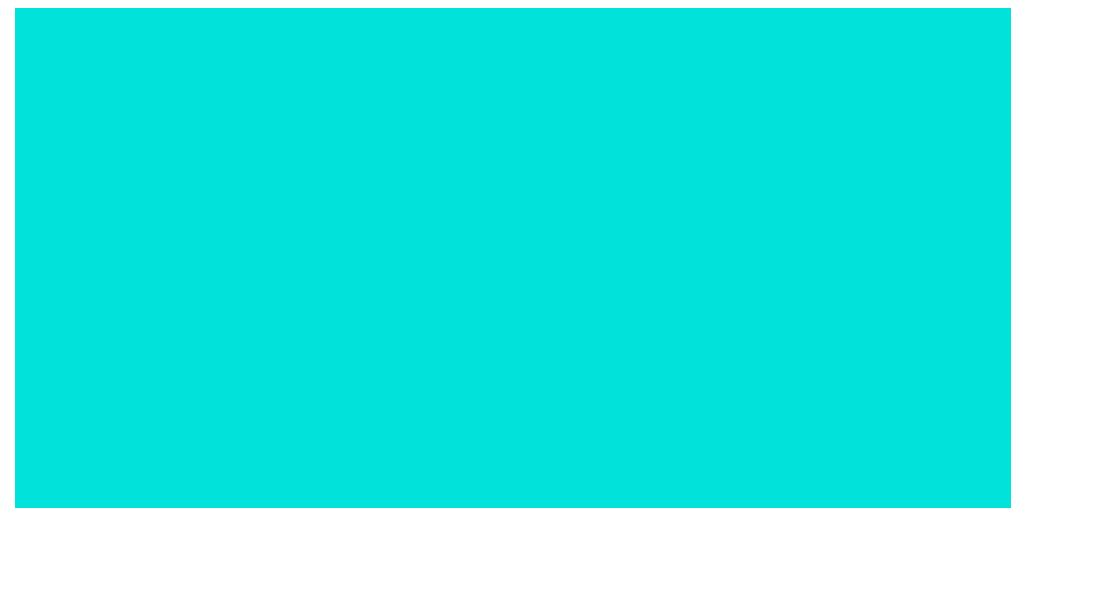cyan_zone: (14, 2, 1011, 509)
